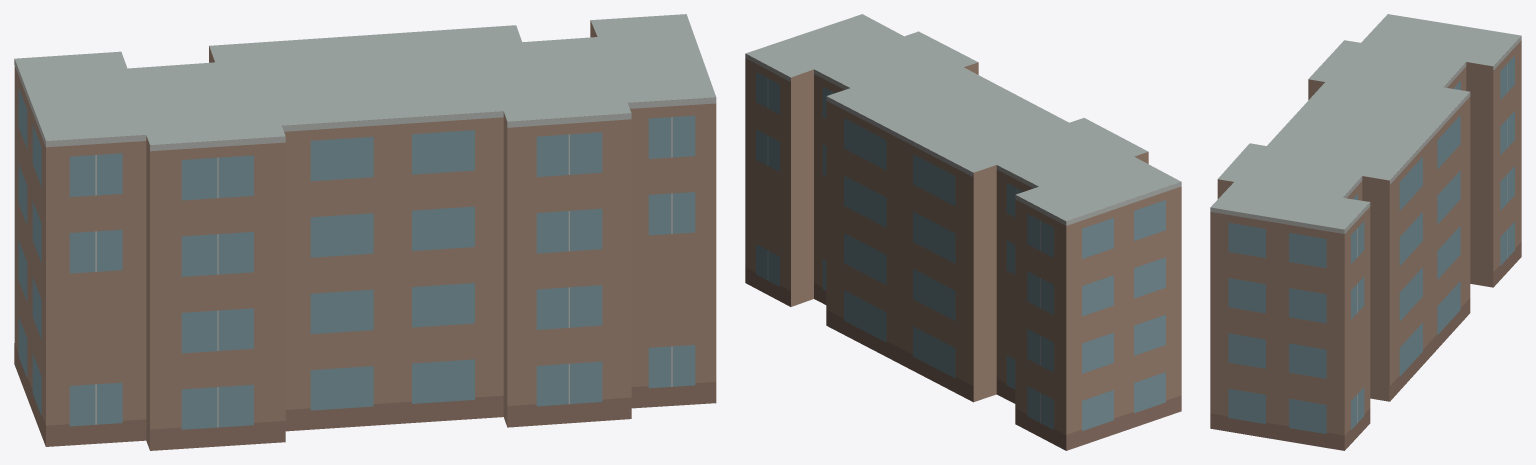
Rendered from survey-upis-32873592.glb.
The picture shows the model from 3 angles, left to right: view 1: azimuth 30°, elevation 25°; view 2: azimuth 150°, elevation 25°; view 3: azimuth 270°, elevation 25°; orthographic projection. The views are drawn at different scales.
Visible parts, largest first — view 1: survey-upis-32873592.tmp; view 2: survey-upis-32873592.tmp; view 3: survey-upis-32873592.tmp.
Part boxes in pixels (<box>): survey-upis-32873592.tmp: <box>14,14,716,450</box>; survey-upis-32873592.tmp: <box>745,14,1181,450</box>; survey-upis-32873592.tmp: <box>1210,14,1521,450</box>.
Bounding box in the file's own units: 25.52 × 12.2 × 15.57.
